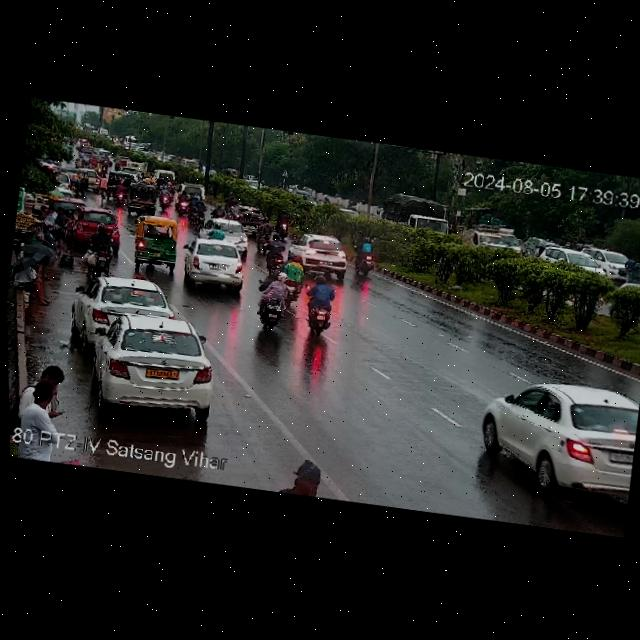car: (477, 375, 640, 503), (68, 306, 224, 422), (69, 271, 181, 352), (183, 235, 252, 295), (130, 214, 187, 270), (538, 242, 626, 278), (294, 233, 356, 279), (463, 224, 529, 265), (66, 205, 127, 249), (121, 181, 170, 217), (26, 182, 88, 210), (56, 162, 109, 191), (102, 170, 144, 205), (174, 180, 213, 208), (288, 186, 327, 206), (169, 154, 205, 172), (113, 156, 147, 173)
motorcycle: (255, 266, 300, 332), (300, 272, 340, 336), (353, 235, 385, 279), (263, 232, 291, 273), (249, 219, 277, 254), (182, 193, 212, 224), (220, 194, 249, 225), (173, 189, 201, 218), (156, 181, 175, 208)
person: (8, 247, 60, 306), (18, 223, 64, 282), (27, 364, 75, 413), (16, 391, 65, 438), (40, 205, 74, 254), (34, 361, 67, 386)
truck: (372, 191, 463, 245), (145, 164, 184, 187)
